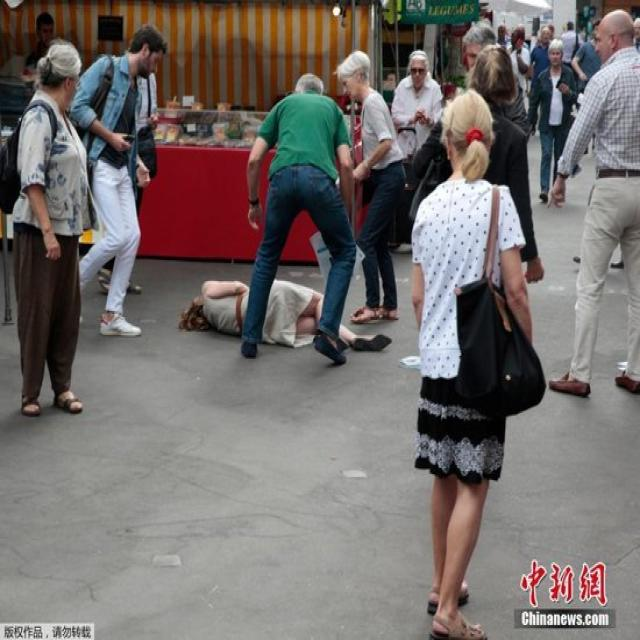10-: (0, 0, 639, 637)
down: (172, 277, 394, 369)
